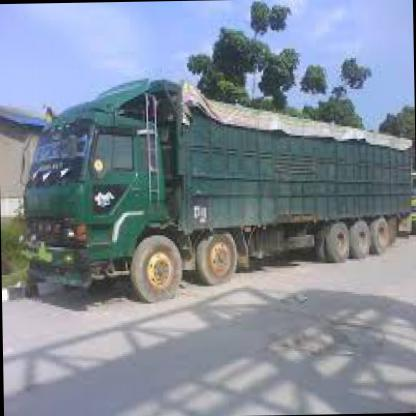truck: (22, 105, 177, 311)
